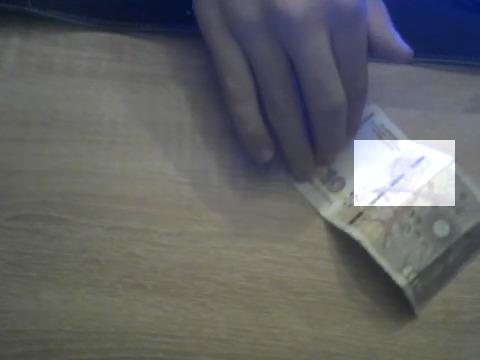10leva: (354, 140, 455, 206)
